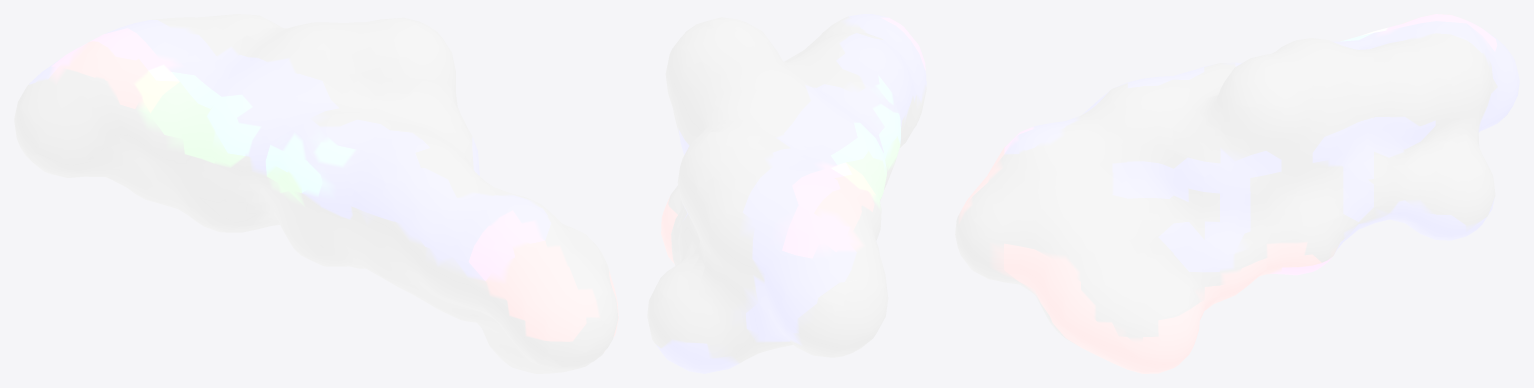
The model's file is Blob.gltf.
The picture shows the model from 3 angles, left to right: view 1: azimuth 30°, elevation 25°; view 2: azimuth 150°, elevation 25°; view 3: azimuth 270°, elevation 25°; orthographic projection. The views are drawn at different scales.
Visible parts, largest first — view 1: Blob; view 2: Blob; view 3: Blob.
Part boxes in pixels (x1,y1,x2,y2): Blob: (14,14,618,373); Blob: (647,14,926,373); Blob: (955,14,1519,373).
Size of what is drawn, in the model's own units: 0.8126 by 0.6354 by 1.17.
